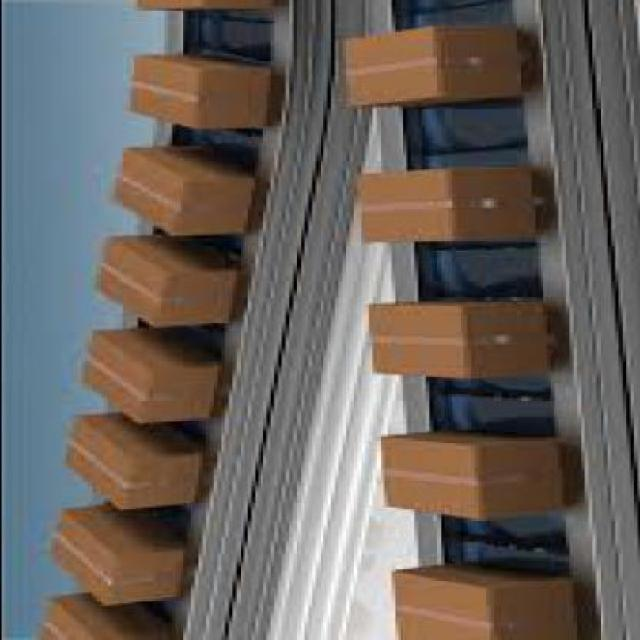CARDBOARD: (374, 432, 568, 520), (333, 28, 527, 109), (364, 297, 545, 383), (57, 412, 205, 514), (38, 509, 182, 611), (75, 332, 223, 428), (106, 146, 254, 240), (91, 238, 242, 330), (388, 566, 577, 639), (352, 170, 537, 244), (122, 56, 269, 136), (31, 592, 168, 638), (128, 2, 268, 13)
